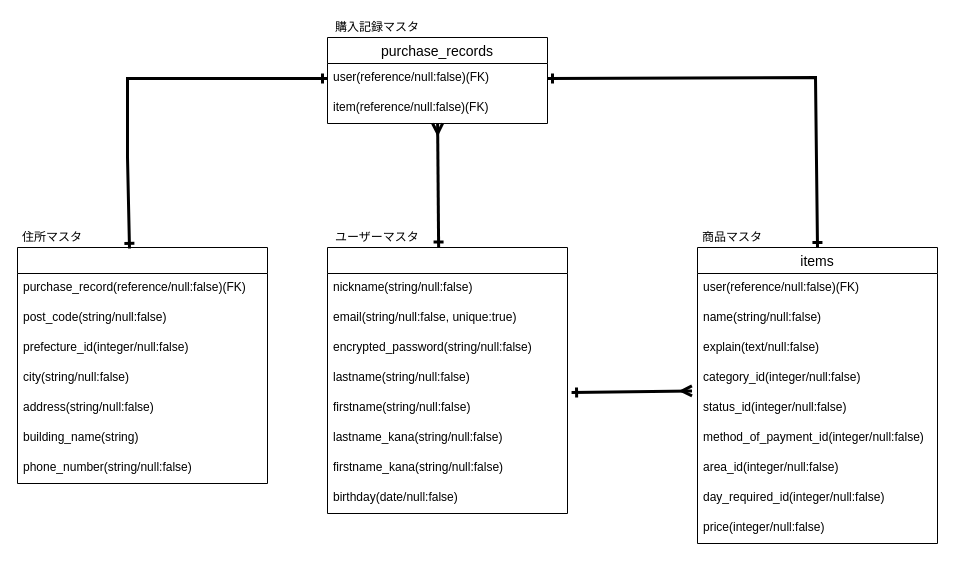
The diagram is 955 pixels wide and 563 high, and some of its shapes have lost their labels. Here are the shapes that lost their labels. From the top down, the box of each, then its label:
(16, 246, 268, 484): addresses
(326, 246, 568, 514): users
